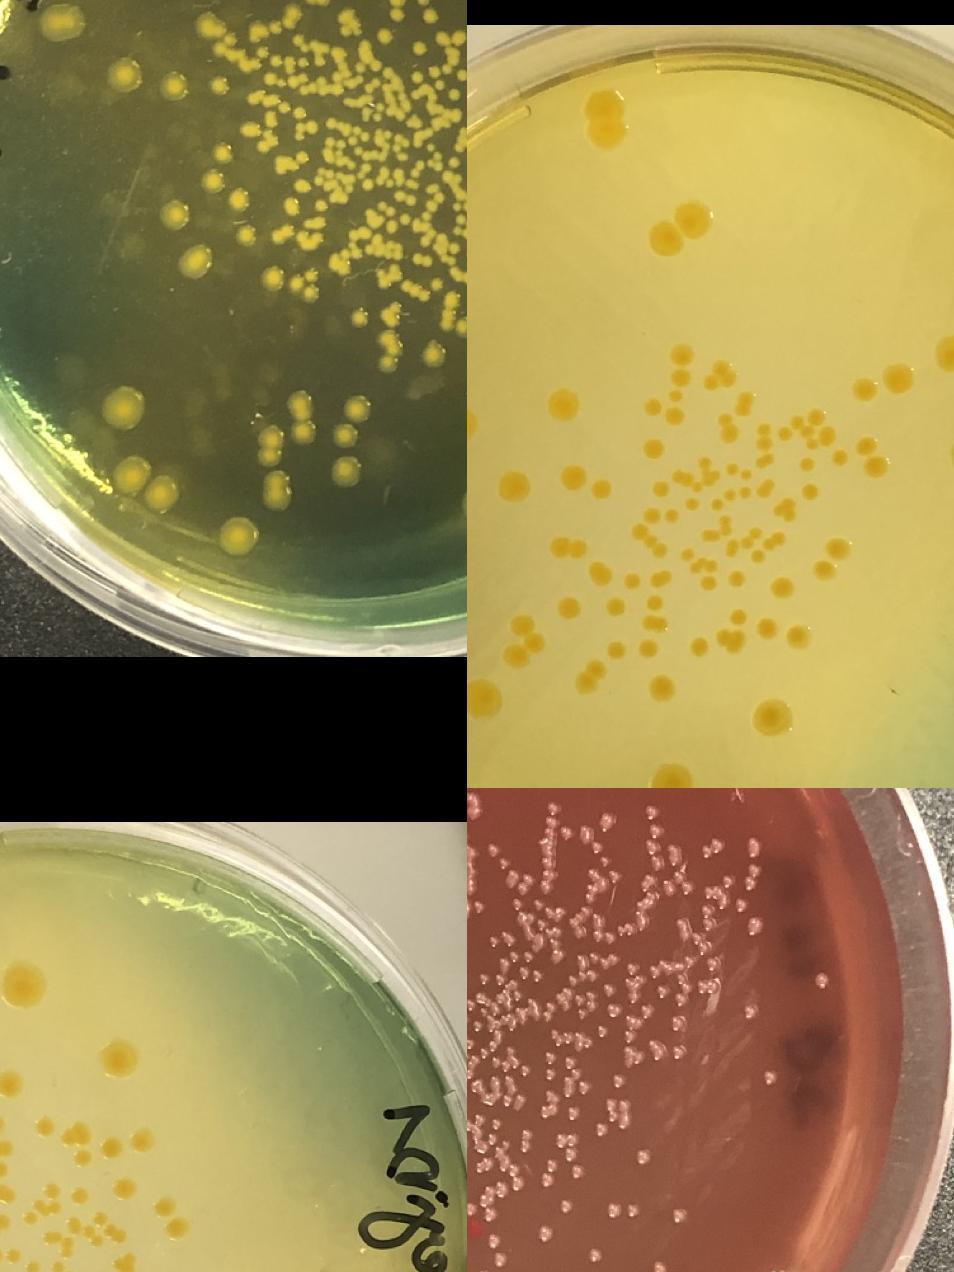assalmonicida: (538, 802, 560, 895), (514, 897, 564, 932), (542, 988, 574, 1023), (702, 874, 734, 908), (478, 1040, 510, 1073), (574, 950, 620, 971), (496, 949, 536, 972), (603, 1098, 631, 1130), (660, 869, 692, 895), (588, 916, 616, 945), (552, 1133, 579, 1162), (586, 868, 620, 891), (564, 910, 588, 940), (574, 989, 596, 1020), (674, 970, 692, 1007), (588, 842, 610, 868), (480, 1078, 500, 1106), (699, 838, 724, 860), (622, 916, 649, 936), (540, 1159, 559, 1187), (514, 872, 536, 895), (506, 1163, 524, 1191), (742, 865, 760, 892), (690, 930, 710, 954), (622, 1013, 638, 1042), (700, 901, 716, 930), (646, 1037, 666, 1060), (518, 966, 544, 983), (478, 973, 506, 988), (506, 1008, 526, 1028), (563, 1058, 581, 1080), (695, 979, 721, 994), (488, 992, 506, 1013), (467, 791, 480, 820), (518, 1128, 532, 1154), (467, 1113, 486, 1131), (667, 842, 681, 866), (468, 1080, 482, 1094), (472, 900, 486, 914), (480, 1192, 494, 1206), (482, 1132, 496, 1146), (482, 1208, 496, 1222), (485, 934, 499, 948), (489, 1117, 503, 1131), (494, 1184, 508, 1198), (496, 857, 510, 871), (500, 932, 514, 946), (512, 1092, 526, 1106), (518, 1064, 532, 1078), (532, 934, 546, 948), (542, 1067, 556, 1081), (543, 1051, 557, 1065), (550, 951, 564, 965), (558, 1200, 572, 1214), (560, 826, 574, 840), (580, 827, 594, 841), (584, 968, 598, 982), (594, 1024, 608, 1038), (594, 1123, 608, 1137), (599, 816, 613, 830), (610, 1075, 624, 1089), (635, 1150, 649, 1164), (640, 1004, 654, 1018), (642, 876, 656, 890), (645, 806, 659, 820), (646, 964, 660, 978), (648, 824, 662, 838), (671, 1017, 685, 1031), (704, 958, 718, 972), (742, 1006, 756, 1020), (748, 840, 762, 854), (748, 920, 762, 934), (467, 1026, 475, 1049), (485, 844, 499, 857), (487, 1234, 500, 1248), (510, 897, 523, 911), (583, 890, 596, 904), (606, 1003, 619, 1017), (606, 1204, 619, 1218), (624, 962, 638, 975), (645, 841, 659, 854), (651, 856, 664, 870), (656, 984, 669, 998), (676, 917, 690, 930), (734, 899, 747, 913), (479, 1158, 493, 1170), (494, 1254, 508, 1266), (539, 1228, 553, 1240), (544, 1104, 558, 1116), (566, 1108, 580, 1120), (570, 1165, 582, 1179), (580, 1036, 594, 1048), (589, 1250, 603, 1262), (626, 1204, 640, 1216), (602, 983, 614, 996), (471, 1020, 483, 1032), (504, 1045, 516, 1057), (506, 870, 518, 882), (548, 1028, 560, 1040), (567, 974, 579, 986), (576, 1082, 588, 1094), (632, 1052, 644, 1064), (672, 1047, 684, 1059), (673, 1210, 685, 1222), (762, 1072, 774, 1084), (815, 975, 827, 987), (467, 1203, 477, 1216), (652, 1264, 665, 1272), (467, 998, 475, 1010)
sinniae: (110, 456, 182, 516), (330, 397, 371, 451), (284, 57, 328, 98), (37, 2, 77, 42), (102, 390, 142, 430), (218, 518, 258, 558), (340, 124, 371, 174), (352, 40, 382, 86), (374, 300, 400, 349), (285, 270, 320, 306), (262, 469, 290, 512), (256, 424, 284, 466), (327, 248, 360, 276), (272, 151, 309, 175), (213, 34, 244, 62), (108, 60, 136, 90), (268, 223, 304, 246), (158, 74, 186, 102), (160, 201, 188, 229), (193, 12, 221, 40), (284, 387, 312, 415), (288, 420, 316, 448), (332, 458, 360, 486), (292, 34, 328, 55), (398, 280, 430, 303), (182, 248, 208, 276), (332, 49, 346, 96), (262, 92, 290, 115), (321, 136, 344, 164), (336, 12, 360, 38), (385, 211, 412, 234), (256, 129, 280, 154), (391, 188, 418, 208), (372, 102, 396, 124), (293, 122, 319, 142), (432, 31, 466, 46), (208, 76, 231, 98), (348, 308, 370, 331), (202, 172, 224, 194), (211, 144, 233, 166), (234, 225, 256, 247), (261, 268, 283, 290), (376, 352, 398, 374), (422, 345, 444, 367), (374, 166, 394, 190), (282, 4, 300, 30), (228, 188, 249, 210), (387, 0, 405, 23), (410, 252, 434, 269), (376, 200, 396, 218), (451, 317, 467, 339), (374, 128, 392, 147), (262, 74, 286, 88), (282, 198, 300, 216), (293, 177, 311, 195), (455, 69, 467, 96), (450, 265, 467, 284), (428, 64, 451, 78), (239, 59, 261, 73), (239, 121, 257, 138), (348, 226, 367, 242), (375, 28, 393, 44), (410, 41, 428, 57), (442, 292, 460, 308), (422, 8, 438, 25), (365, 76, 380, 94), (432, 150, 442, 172), (291, 106, 306, 120), (430, 278, 444, 292), (446, 88, 460, 102), (314, 199, 328, 212), (245, 93, 260, 105), (249, 24, 264, 36), (263, 115, 278, 127), (409, 71, 424, 83), (268, 22, 282, 34), (414, 0, 429, 8)
vharveyi: (646, 202, 710, 260), (701, 512, 762, 556), (499, 614, 544, 673), (585, 88, 625, 148), (671, 456, 722, 495), (467, 676, 503, 722), (152, 1196, 188, 1242), (854, 436, 890, 478), (669, 342, 694, 402), (790, 409, 824, 453), (628, 523, 669, 558), (546, 386, 582, 422), (754, 700, 790, 736), (4, 969, 38, 1005), (649, 762, 695, 788), (102, 1042, 136, 1076), (574, 658, 606, 694), (884, 363, 916, 396), (678, 548, 718, 574), (497, 470, 529, 502), (704, 360, 737, 391), (550, 534, 590, 558), (0, 1066, 26, 1101), (756, 422, 774, 472), (714, 628, 746, 654), (42, 1232, 72, 1258), (771, 496, 797, 521), (936, 336, 954, 372), (723, 462, 752, 482), (556, 597, 580, 621), (560, 468, 584, 492), (642, 436, 666, 460), (756, 617, 780, 641), (770, 575, 794, 599), (785, 625, 809, 649), (826, 536, 850, 560), (853, 379, 877, 403), (32, 1198, 60, 1218), (111, 1178, 134, 1202), (129, 1129, 152, 1153), (718, 412, 736, 442), (604, 597, 628, 619), (650, 676, 672, 700), (100, 1138, 122, 1162), (590, 479, 613, 501), (663, 406, 686, 428), (724, 568, 747, 590), (813, 560, 835, 583), (764, 531, 788, 552), (60, 1126, 88, 1144), (589, 566, 611, 588), (606, 640, 628, 662), (636, 638, 658, 660), (686, 636, 708, 658), (648, 569, 672, 589), (734, 390, 754, 414), (640, 616, 668, 632), (756, 477, 776, 499), (82, 1225, 102, 1246), (112, 1254, 135, 1272), (622, 572, 642, 590), (651, 480, 671, 498), (104, 1225, 124, 1243), (467, 407, 476, 443), (728, 608, 746, 626), (36, 1118, 54, 1136), (42, 1183, 60, 1201), (70, 1188, 88, 1206), (74, 1148, 92, 1166), (646, 596, 664, 612), (700, 576, 718, 592), (774, 428, 792, 444), (643, 508, 660, 524), (663, 509, 680, 525), (832, 450, 849, 466), (0, 1138, 13, 1158), (750, 550, 766, 566), (798, 457, 814, 473), (802, 486, 818, 502), (820, 428, 836, 444), (0, 1217, 8, 1249), (0, 1185, 14, 1203), (644, 400, 660, 415), (23, 1259, 41, 1272), (92, 1211, 106, 1227), (721, 488, 735, 502), (738, 485, 752, 499), (685, 498, 699, 510), (710, 500, 723, 512), (0, 1161, 8, 1179), (6, 1250, 18, 1262), (24, 1212, 36, 1224), (67, 1218, 79, 1230), (50, 1262, 63, 1272)
